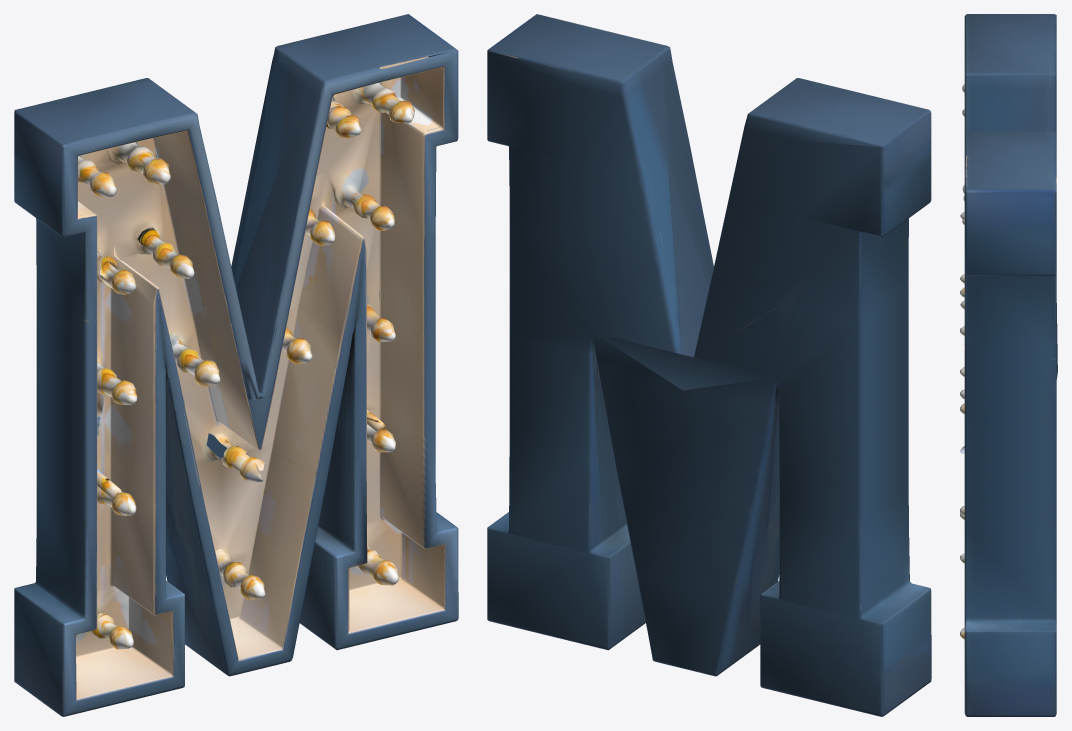
The model's file is Letter_m.glb.
3 renders of one model, left to right at view 1: azimuth 30°, elevation 25°; view 2: azimuth 150°, elevation 25°; view 3: azimuth 270°, elevation 25°, orthographic. The views are drawn at different scales.
Visible parts, largest first — view 1: Mesh_0.002; view 2: Mesh_0.002; view 3: Mesh_0.002.
Boxes of the visible parts, box(x1,y1,x2,y2) form: Mesh_0.002: box(14, 14, 458, 716); Mesh_0.002: box(487, 14, 931, 716); Mesh_0.002: box(960, 14, 1057, 716).
Bounding box in the file's own units: 0.6628 × 0.9144 × 0.154.
Materials: 1 (1 with a texture image).
